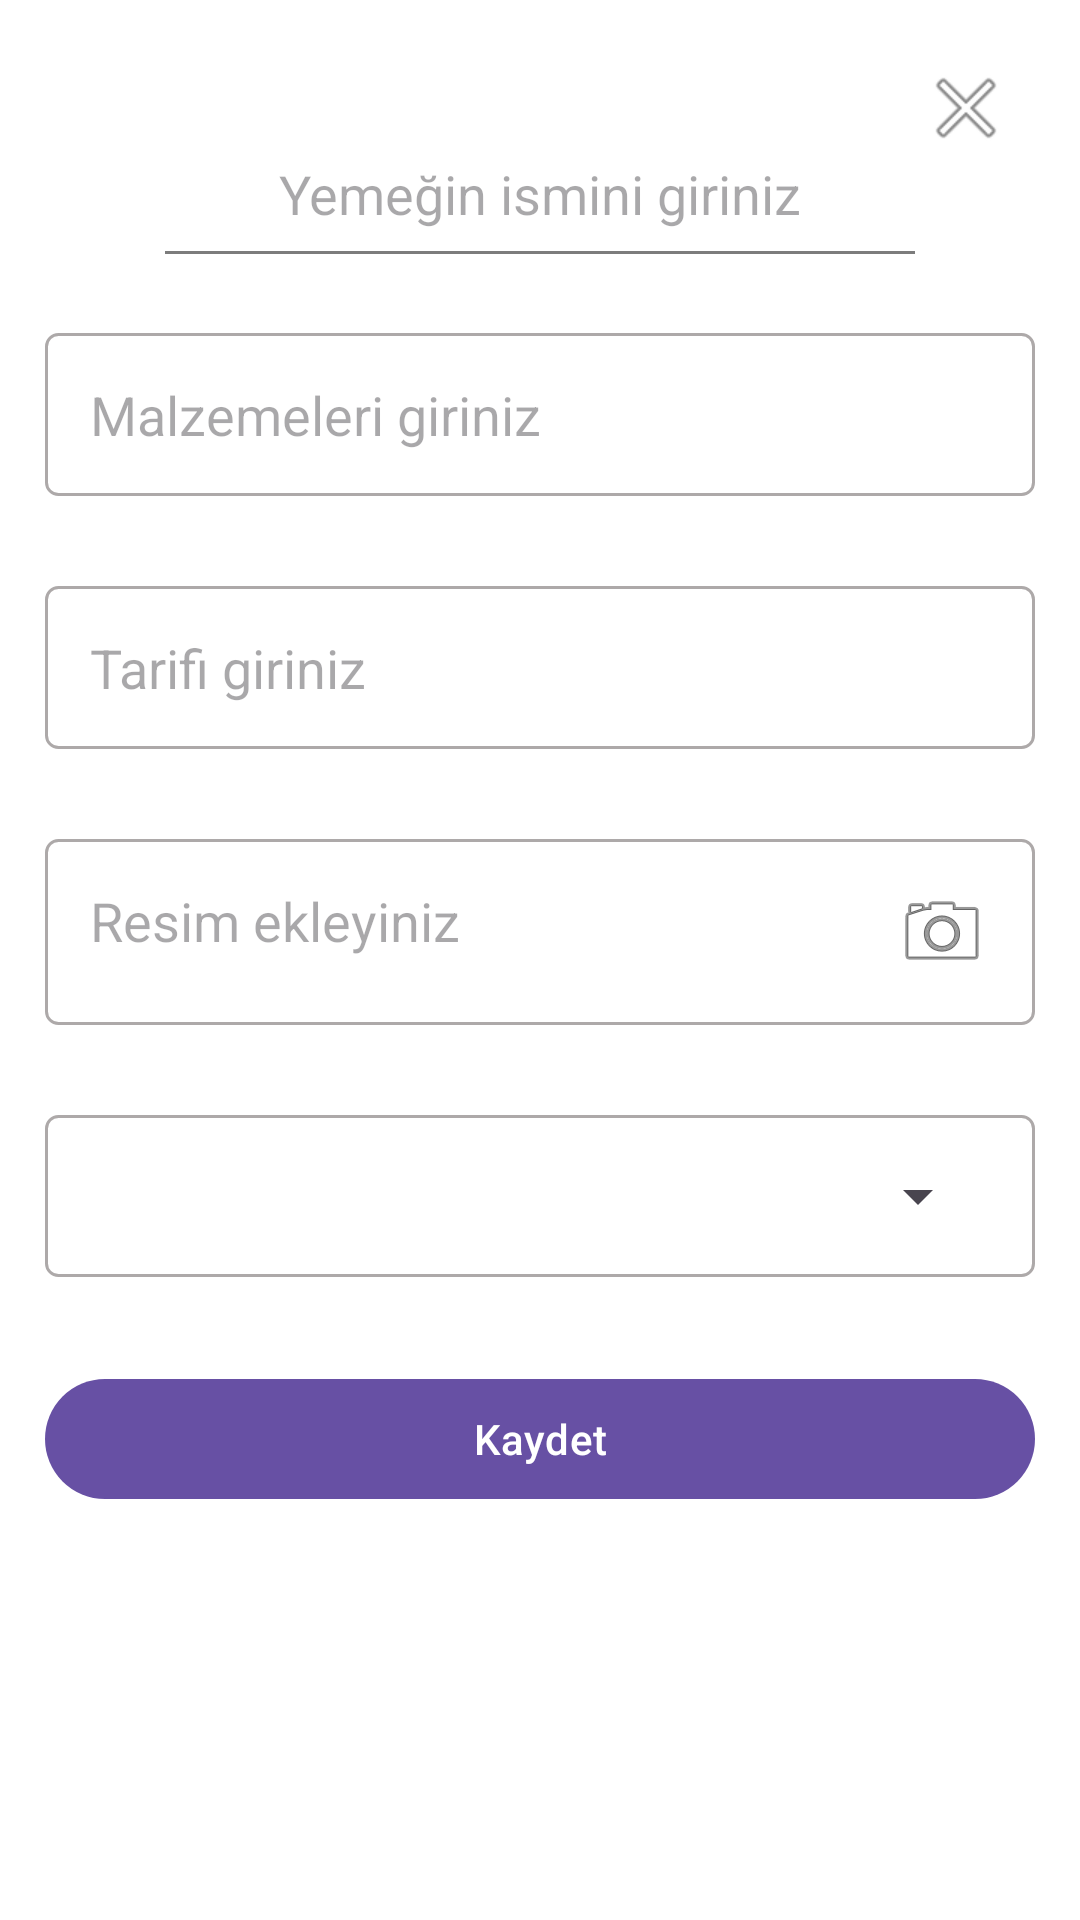

Named icons in this screenshot (1080*1920) and their bounding boxes, (x1, y1, x2, y2):
close clear cancel: (936, 78, 996, 138)
